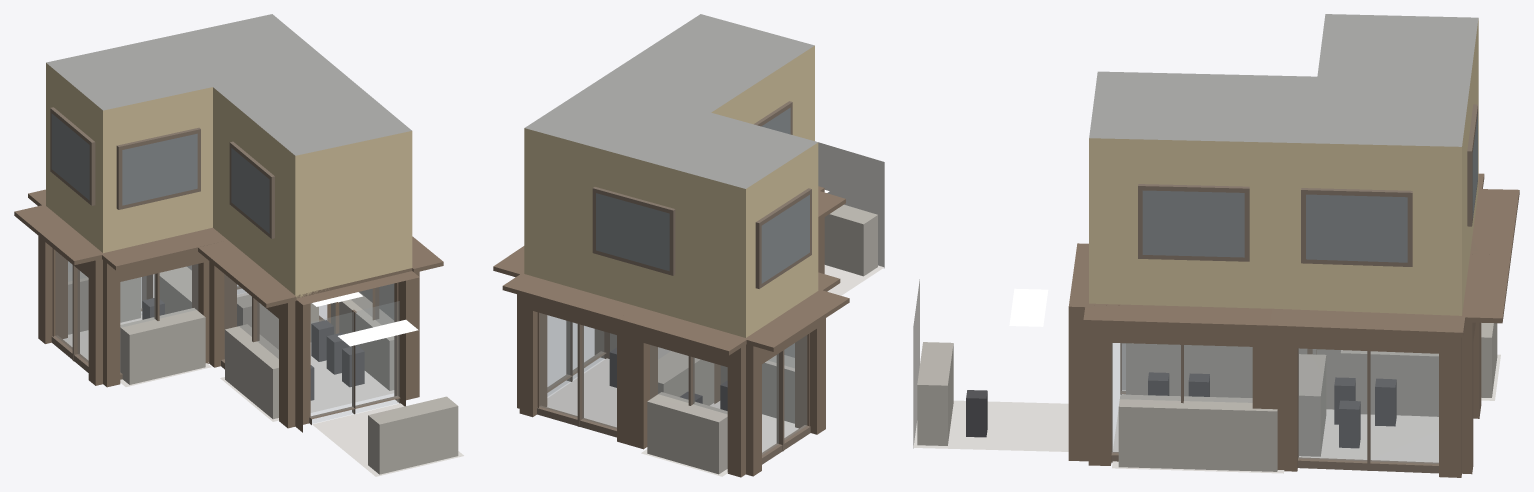
The model's file is d12-nonbei-w138670888-row.glb.
3 renders of one model, left to right at view 1: azimuth 30°, elevation 25°; view 2: azimuth 150°, elevation 25°; view 3: azimuth 270°, elevation 25°, orthographic. The views are drawn at different scales.
Parts seen in each view (by area): view 1: INFERRED_facade.001, INFERRED_ground.001; view 2: INFERRED_facade.001, INFERRED_ground.001; view 3: INFERRED_facade.001, INFERRED_ground.001.
Boxes of the visible parts, x1,y1,x2,y2 form: INFERRED_facade.001: (14, 14, 463, 476); INFERRED_ground.001: (55, 251, 418, 423); INFERRED_facade.001: (493, 14, 884, 477); INFERRED_ground.001: (539, 190, 829, 454); INFERRED_facade.001: (913, 14, 1519, 477); INFERRED_ground.001: (1009, 288, 1438, 463).
Size of the model in its own units: 5.83 by 5.36 by 8.91.
3 materials, 1 textured.
